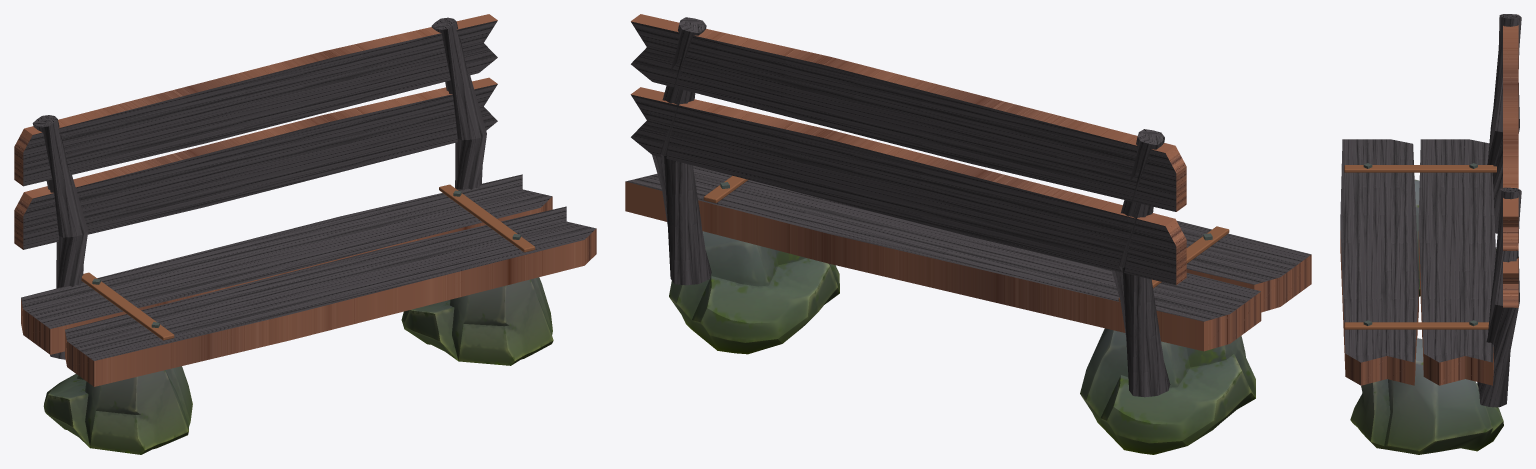
File: Timber_Bench_Barren.glb
3 views of the same model, side by side, from view 1: azimuth 30°, elevation 25°; view 2: azimuth 150°, elevation 25°; view 3: azimuth 270°, elevation 25° (orthographic). The views are drawn at different scales.
Parts seen in each view (by area): view 1: Structure; view 2: Structure; view 3: Structure.
Part boxes in pixels (x1,y1,x2,y2): Structure: (14,14,596,454); Structure: (625,14,1311,454); Structure: (1340,14,1521,454).
Size of the model in its own units: 2.7 by 1.46 by 0.9272.
Materials: 5 (3 with a texture image).
